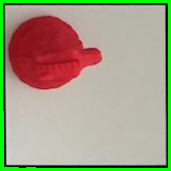Red Knight: (7, 11, 105, 93)
